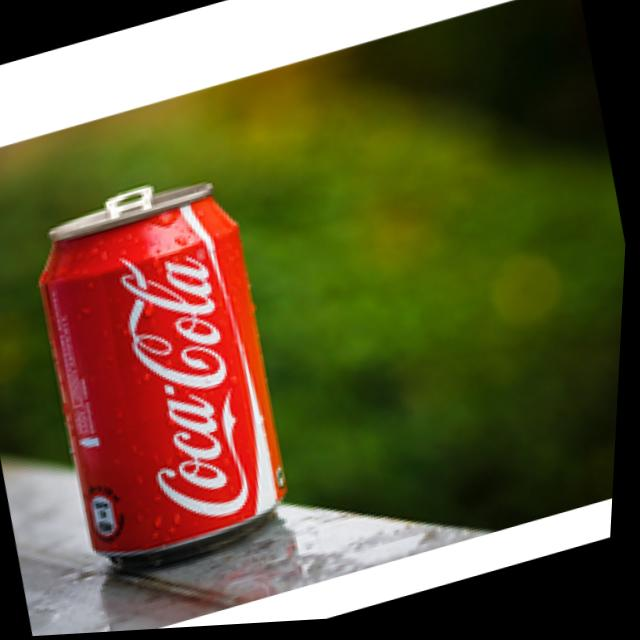aluminum_soda_cans: (15, 167, 319, 593)
